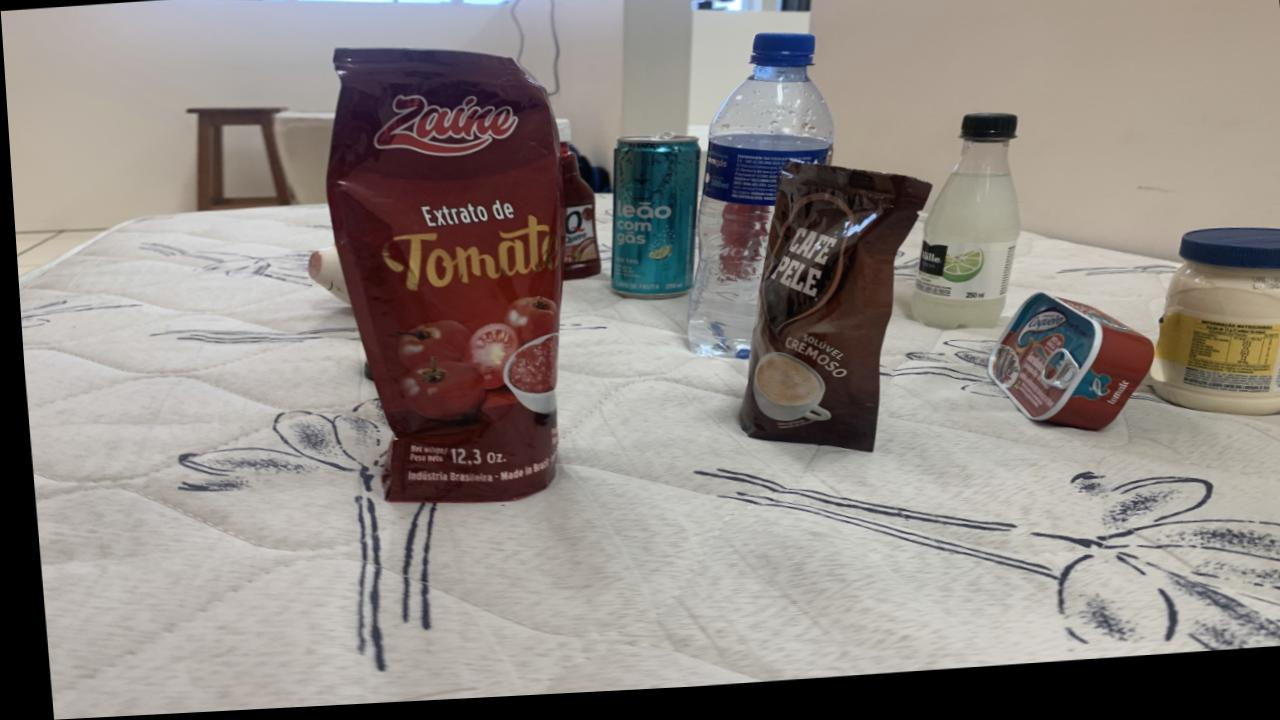Coffee-Pantry_Items: (733, 170, 928, 460)
Ketchup-Pantry_Items: (554, 125, 597, 285)
Mayonnaise-Pantry_Items: (1144, 241, 1280, 429)
Soda-Drinks: (908, 123, 1016, 340)
Tea-Drinks: (607, 140, 698, 306)
Tomato_Sauce-Pantry_Items: (324, 53, 559, 508)
Tuna_Can-Pantry_Items: (983, 304, 1148, 443)
Water_Bottle-Drinks: (683, 42, 831, 365)
